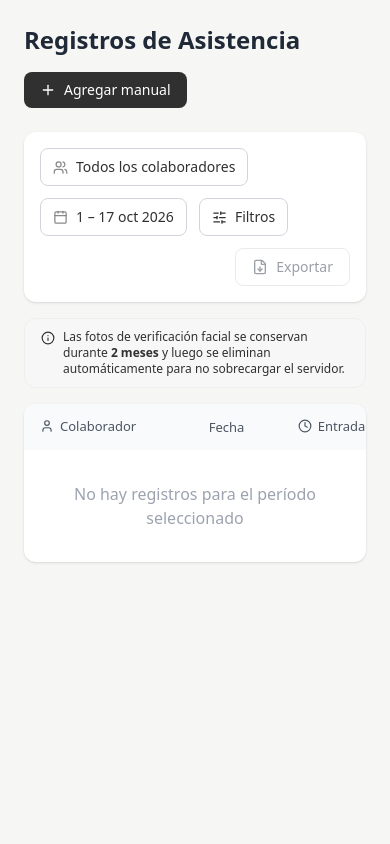
it: agregar una jornada a mano › «Traer su horario» llena la entrada, el almuerzo, los descansos y la salida con el horario de ese día
Click the button "Agregar manual" at (105, 90), box [24,72,187,108]
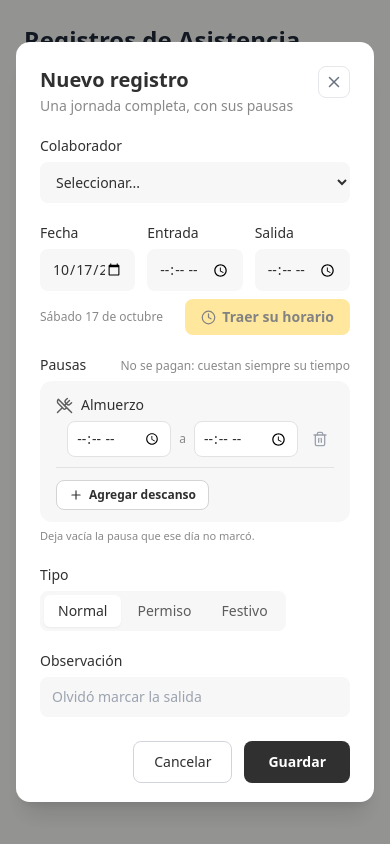
Select "Julián Restrepo" in the dropdown named "Colaborador" at (195, 183), box [40,162,350,203]
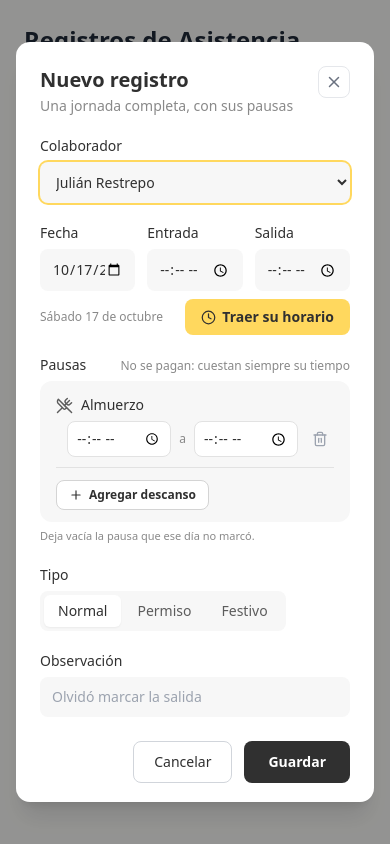
Type "2026-09-07" into the date field named "Fecha" at (88, 270), box [40,249,135,291]
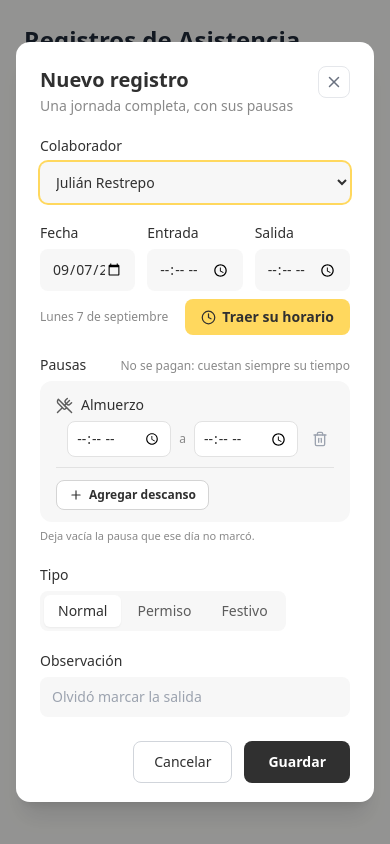
Click the button "Traer su horario" at (268, 317), box [185,299,350,335]
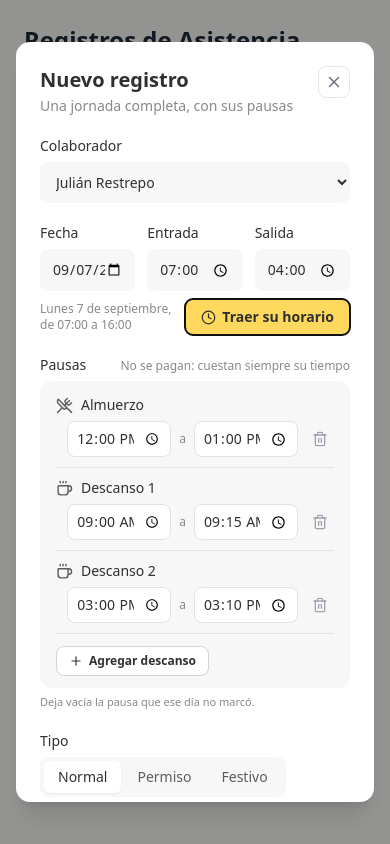
expect the time field named "Entrada" holds "07:00": met, box [147,249,243,291]
expect the time field named "Salida" holds "16:00": met, box [255,249,350,291]
expect the time field named "Almuerzo: salió" holds "12:00": met, box [67,421,171,457]
